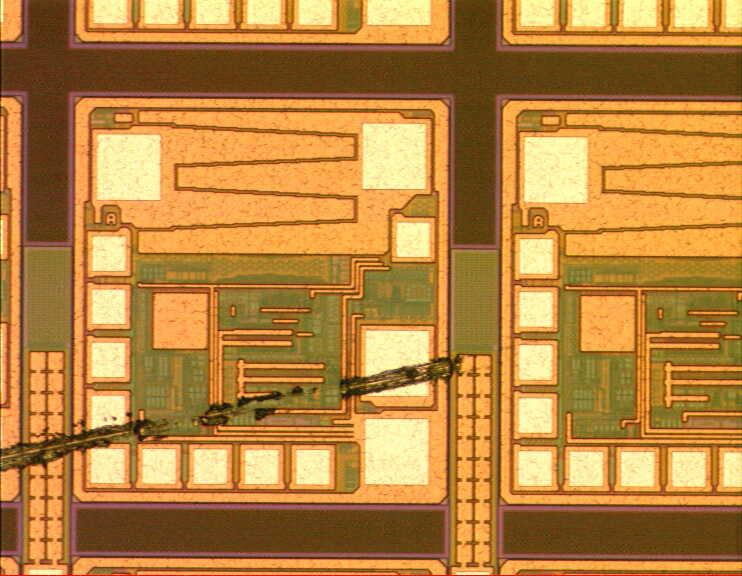SCRATCH: (1, 332, 515, 486)
